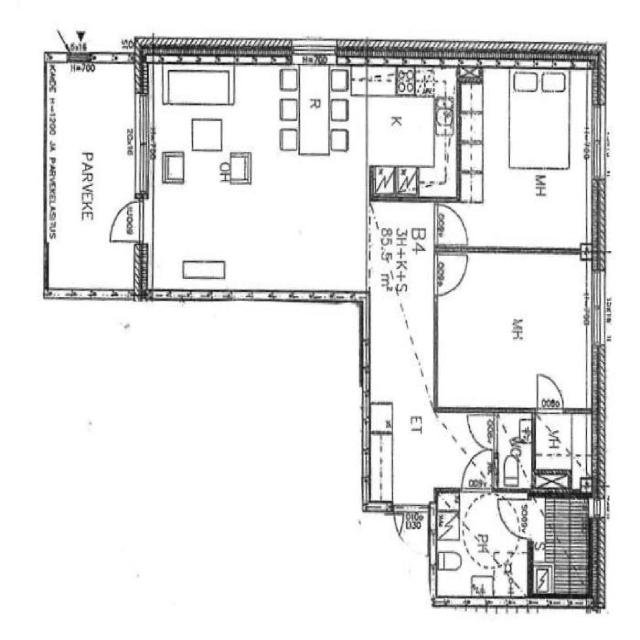door: (531, 405, 598, 493), (430, 198, 475, 302), (102, 193, 150, 249), (433, 198, 473, 250), (494, 488, 533, 541), (392, 500, 429, 554), (458, 447, 496, 494), (530, 367, 566, 415), (464, 411, 499, 453)
window: (582, 257, 611, 357), (585, 92, 612, 188), (132, 88, 156, 196), (494, 50, 585, 78), (167, 42, 237, 74), (287, 36, 337, 65), (437, 595, 484, 614)
zone: (149, 59, 365, 299), (455, 62, 601, 256), (436, 246, 594, 411), (44, 56, 143, 293), (143, 61, 303, 190), (434, 489, 531, 603), (531, 492, 595, 596), (532, 409, 597, 494), (495, 409, 534, 490)
